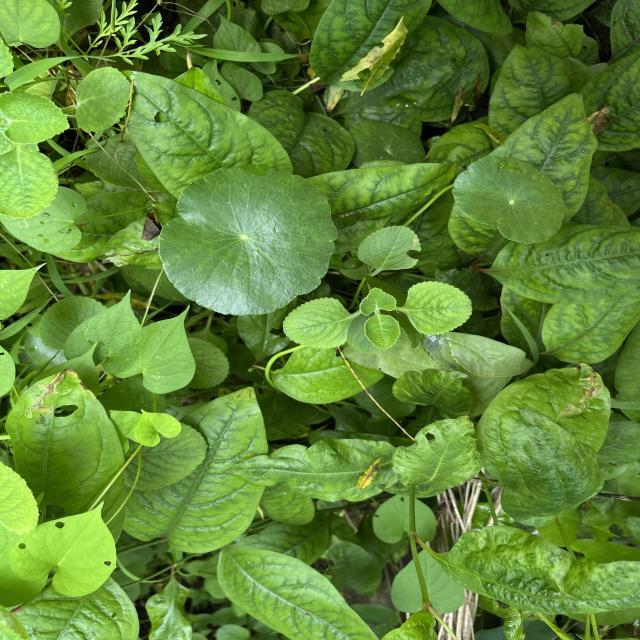Bacopa monnieri: (154, 164, 340, 318), (449, 152, 568, 247)
